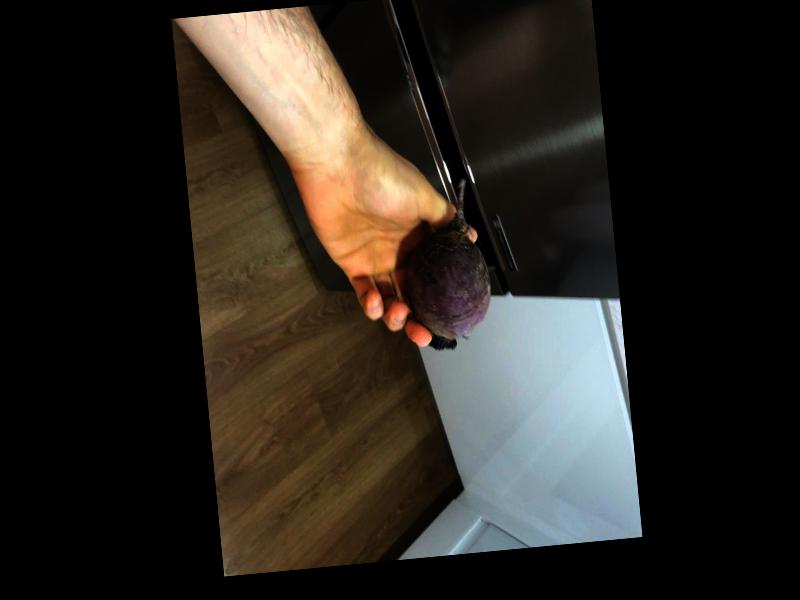Beet: (399, 179, 494, 353)
